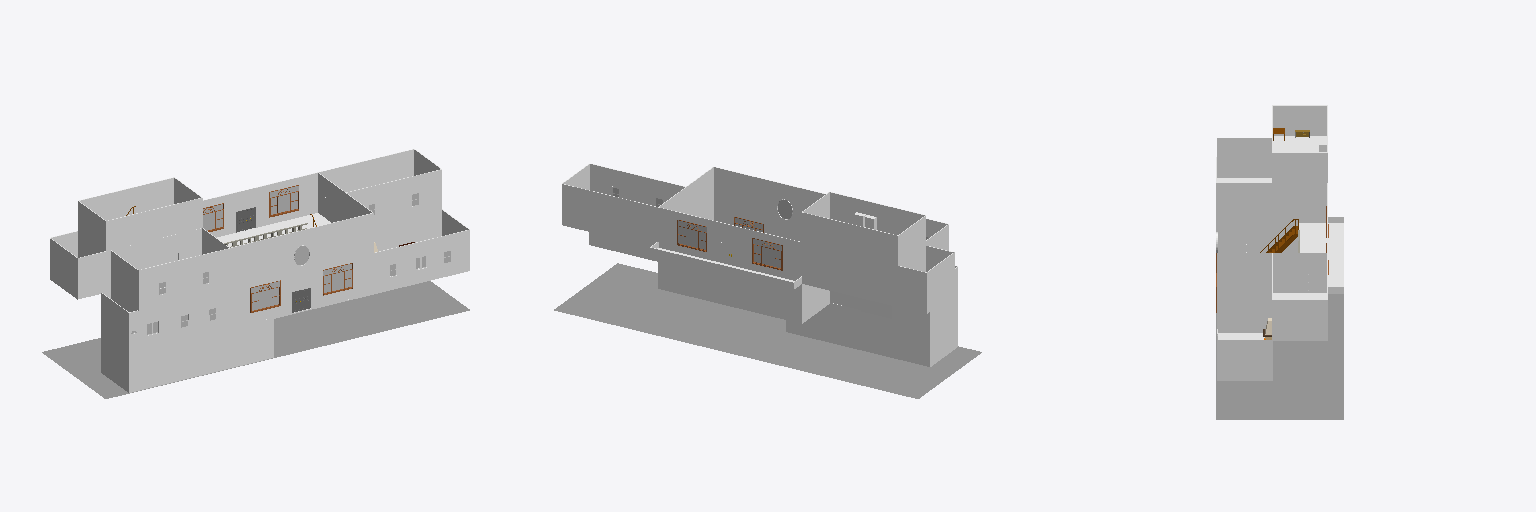
File: House.obj
The picture shows the model from 3 angles: view 1: azimuth 30°, elevation 25°; view 2: azimuth 150°, elevation 25°; view 3: azimuth 270°, elevation 25°; orthographic projection.
Visible parts, largest first — view 1: wall_23_130, ground_1, wall_3_16, wall_13_70, wall_19_107, wall_21_118, wall_34_197, wall_17_95, wall_25_142, wall_36_208, wall_12_64, wall_38_220 (+11 smaller); view 2: ground_1, wall_17_94, wall_1_4, wall_23_131, wall_25_143, wall_32_185, wall_36_209, wall_19_106, wall_34_196, wall_27_155, wall_30_173, wall_22_124 (+7 smaller); view 3: ground_1, wall_22_125, wall_14_77, wall_24_137, wall_8_40, wall_20_112, wall_37_215, wall_26_148, wall_35_203, wall_33_190, room_54_254, room_47_247 (+1 smaller).
Part boxes in pixels (left/top/right/bottom): wall_23_130: left=231, top=213, right=373, bottom=327; ground_1: left=42, top=281, right=469, bottom=398; wall_3_16: left=129, top=319, right=273, bottom=392; wall_13_70: left=168, top=248, right=230, bottom=344; wall_19_107: left=347, top=170, right=441, bottom=251; wall_21_118: left=373, top=230, right=469, bottom=293; wall_34_197: left=106, top=198, right=202, bottom=251; wall_17_95: left=203, top=173, right=317, bottom=237; wall_25_142: left=319, top=149, right=413, bottom=191; wall_36_208: left=80, top=178, right=173, bottom=220; wall_12_64: left=138, top=263, right=167, bottom=350; wall_38_220: left=112, top=228, right=201, bottom=269; ground_1: left=554, top=263, right=981, bottom=398; wall_17_94: left=658, top=208, right=801, bottom=323; wall_1_4: left=786, top=303, right=929, bottom=366; wall_23_131: left=714, top=167, right=825, bottom=241; wall_25_143: left=562, top=184, right=658, bottom=246; wall_32_185: left=802, top=243, right=897, bottom=306; wall_36_209: left=801, top=212, right=897, bottom=266; wall_19_106: left=589, top=164, right=684, bottom=261; wall_34_196: left=830, top=192, right=924, bottom=234; wall_27_155: left=926, top=252, right=954, bottom=313; wall_30_173: left=898, top=266, right=925, bottom=313; wall_22_124: left=686, top=167, right=713, bottom=220; ground_1: left=1216, top=294, right=1343, bottom=419; wall_22_125: left=1217, top=253, right=1271, bottom=332; wall_14_77: left=1216, top=183, right=1271, bottom=252; wall_24_137: left=1272, top=300, right=1327, bottom=340; wall_8_40: left=1217, top=138, right=1271, bottom=177; wall_20_112: left=1217, top=340, right=1272, bottom=380; wall_37_215: left=1271, top=183, right=1326, bottom=223; wall_26_148: left=1273, top=253, right=1326, bottom=292; wall_35_203: left=1272, top=153, right=1327, bottom=182; wall_33_190: left=1273, top=106, right=1326, bottom=135; room_54_254: left=1328, top=223, right=1343, bottom=286; room_47_247: left=1299, top=223, right=1326, bottom=252.
Bounding box in the file's own units: 3804 × 1499 × 1163.